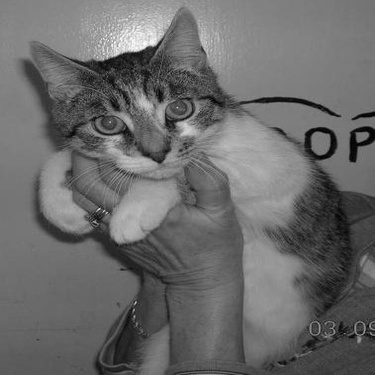cat: (15, 3, 353, 354)
